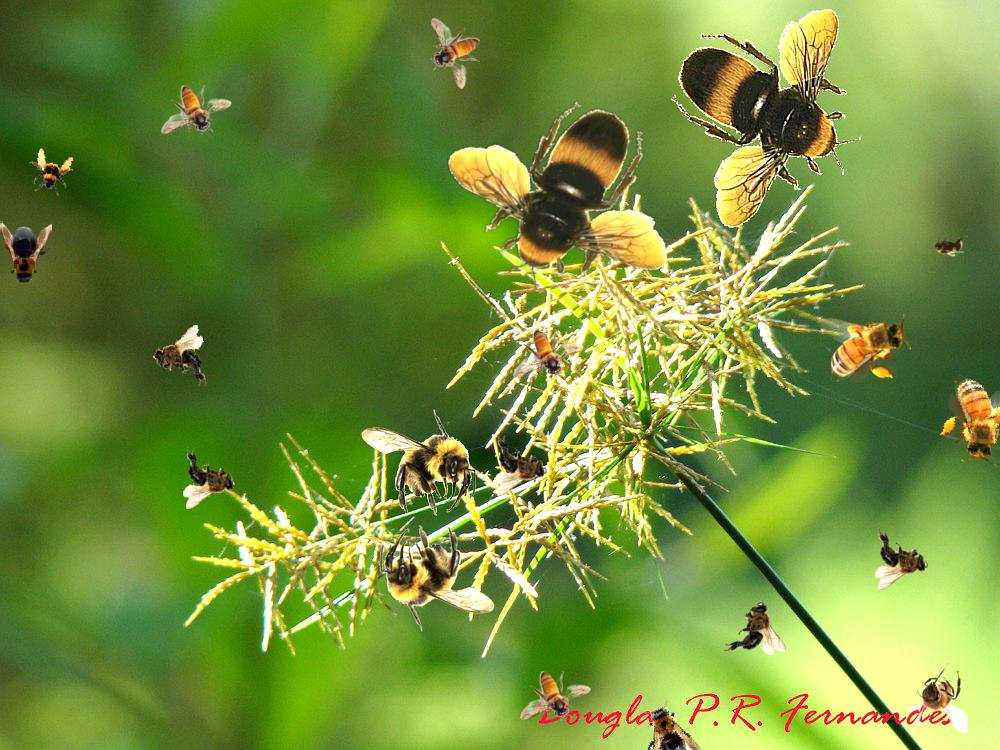Bee: (447, 102, 667, 293), (671, 9, 862, 229), (380, 525, 495, 632), (361, 409, 476, 516), (930, 362, 1000, 473), (818, 314, 911, 382), (148, 324, 211, 394), (907, 663, 968, 733), (629, 694, 705, 750), (513, 329, 584, 379), (520, 671, 591, 721), (430, 18, 480, 89), (161, 85, 232, 135), (0, 221, 52, 289), (875, 528, 928, 590), (183, 447, 236, 509), (724, 602, 786, 655), (494, 434, 547, 496), (24, 146, 76, 198), (928, 235, 968, 257)
